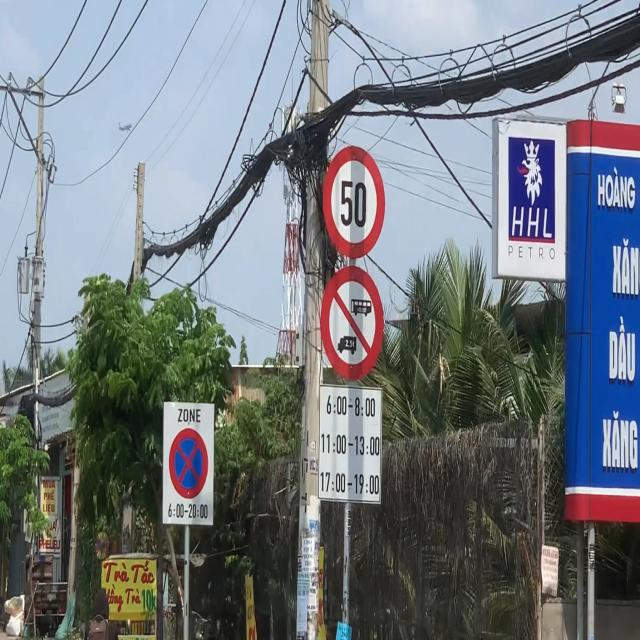Cam dung va do: (169, 428, 208, 499)
Toc do toi da: (322, 146, 386, 260)
